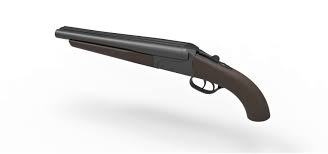weapon: (54, 25, 272, 122)
